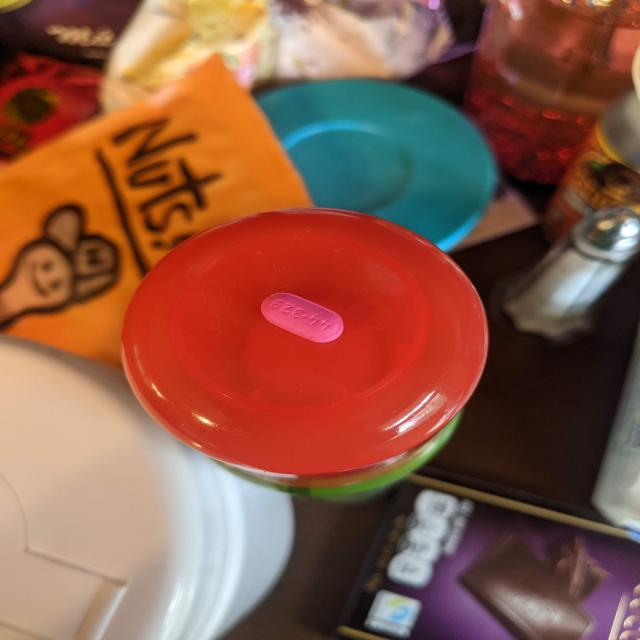non-organic waste: (260, 292, 344, 343)
